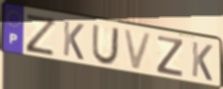K: (62, 19, 86, 63), (190, 40, 214, 83)
U: (90, 23, 121, 67)
V: (122, 28, 155, 73)
Z: (25, 12, 59, 58), (155, 35, 185, 79)
